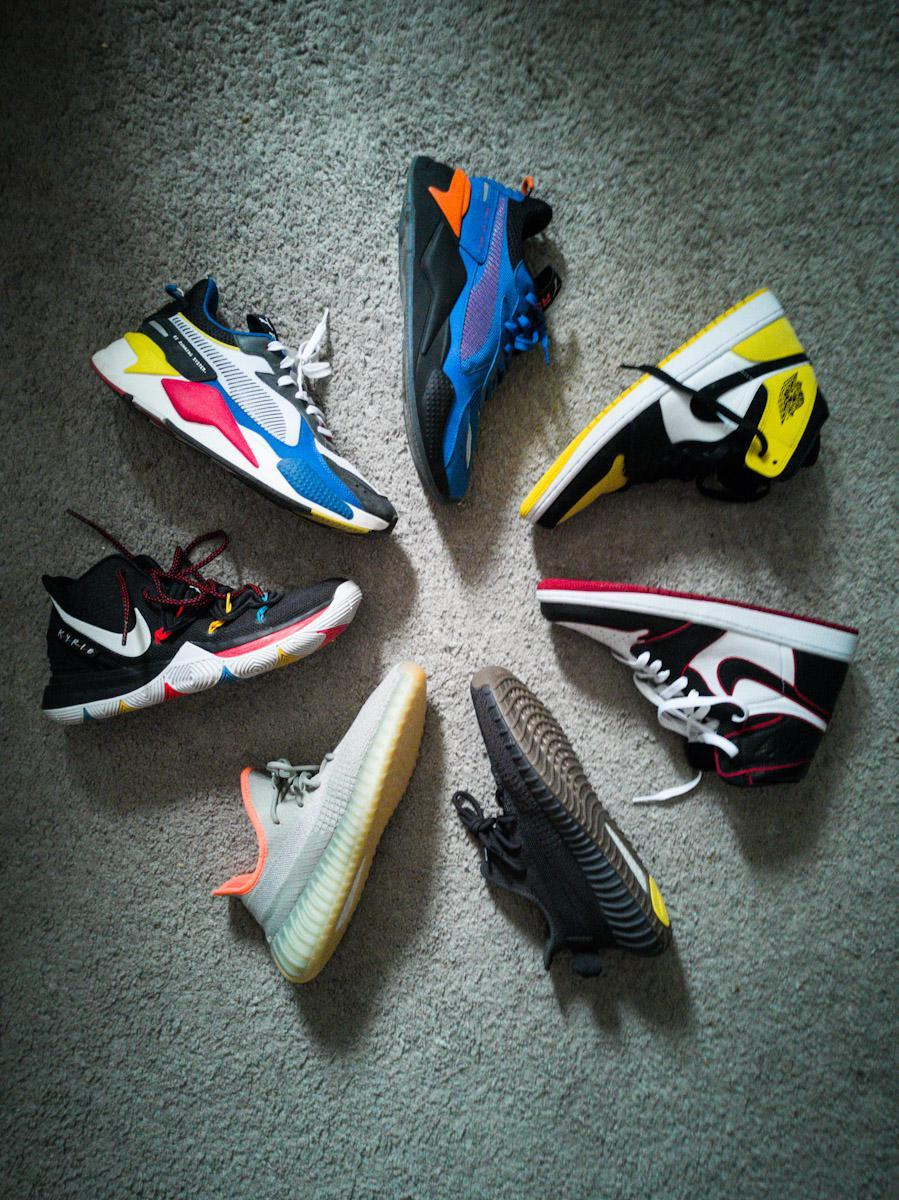sneaker: (66, 250, 418, 555), (497, 265, 848, 560), (425, 650, 703, 997), (522, 558, 886, 815), (23, 492, 377, 755), (203, 635, 452, 1008), (368, 133, 577, 530)
